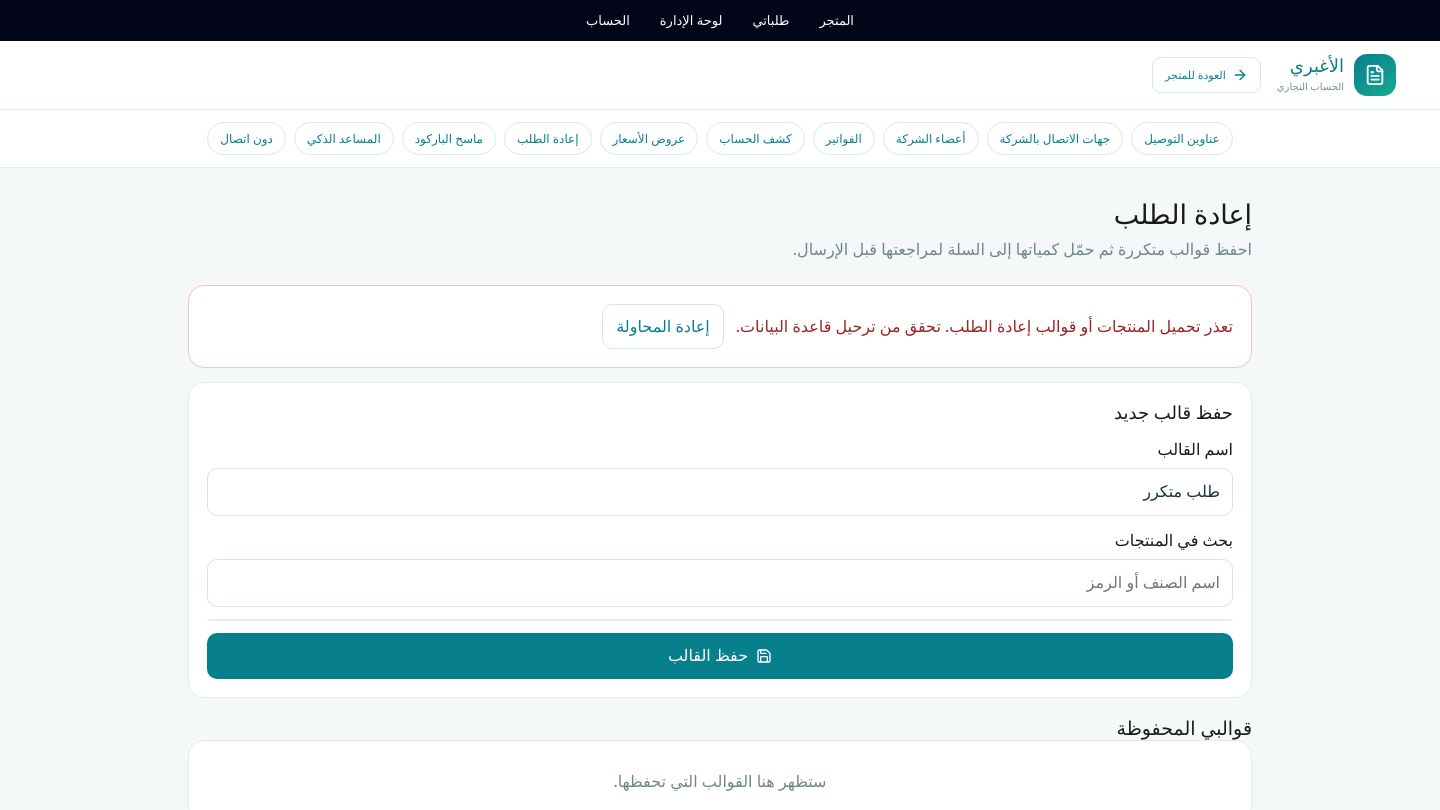
Test case: customer reorder real route acceptance › shows product source failure and recovers through the visible retry action
Expected: the message shows "تعذر تحميل المنتجات أو قوالب إعادة الطلب", top-left (736, 315), bottom-right (1233, 337)
Expected: the text "SKU-REORDER-01" is not shown
Step 1. Click the button "إعادة المحاولة" → point(663, 326), box top-left (602, 304), bottom-right (724, 349)
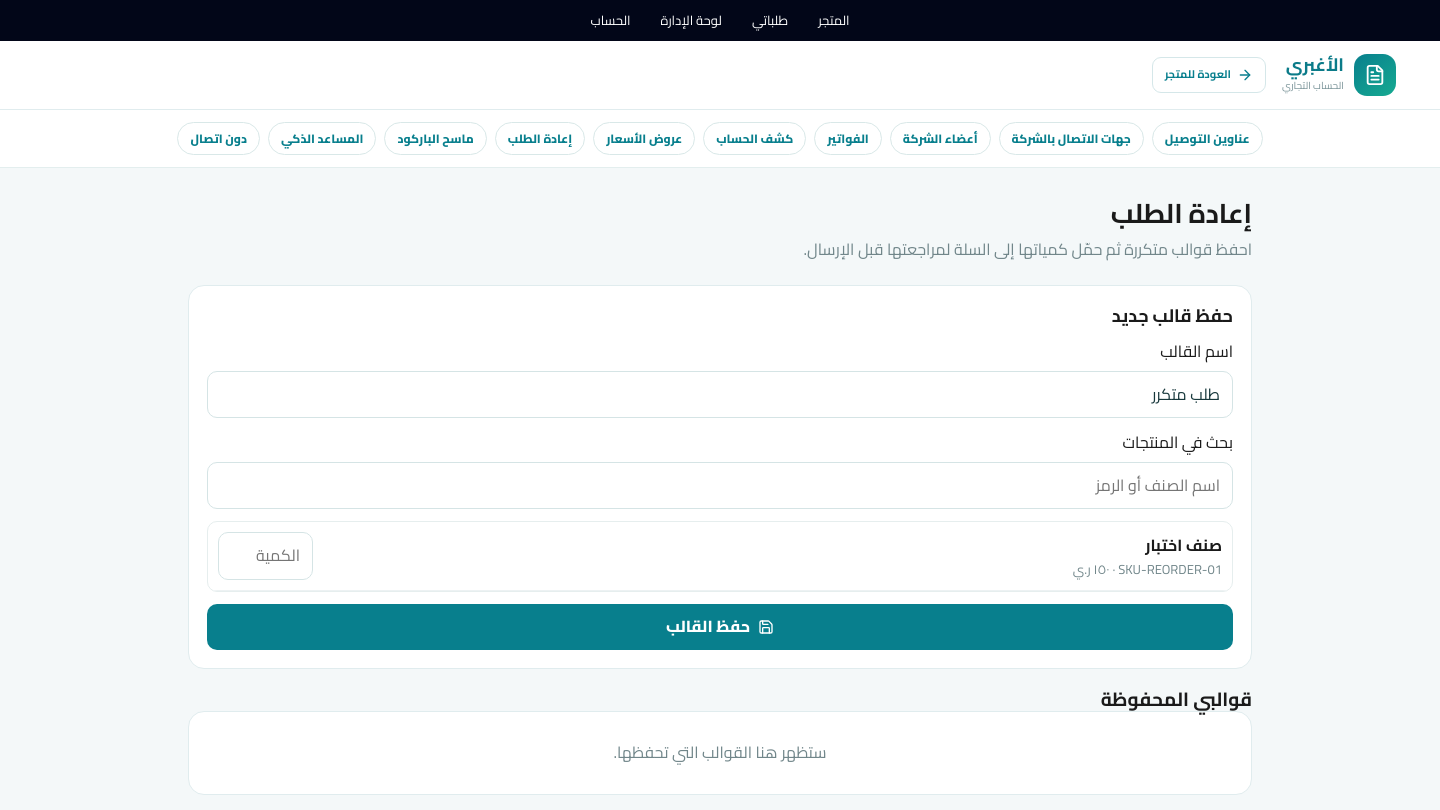
Expected: the message is gone
Expected: the text "SKU-REORDER-01" is shown, top-left (1118, 557), bottom-right (1222, 581)
